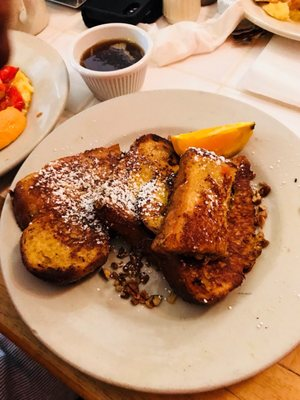taco: (170, 120, 256, 158)
